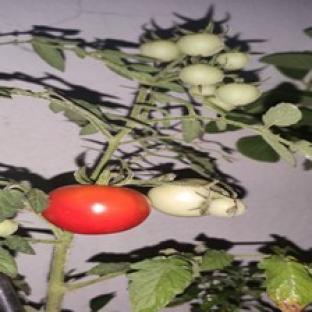Tomato: (42, 186, 150, 233), (148, 179, 245, 217), (177, 34, 224, 57), (216, 83, 260, 105), (180, 65, 224, 86), (140, 41, 181, 61), (216, 52, 249, 71), (0, 219, 18, 236), (190, 85, 215, 96)
